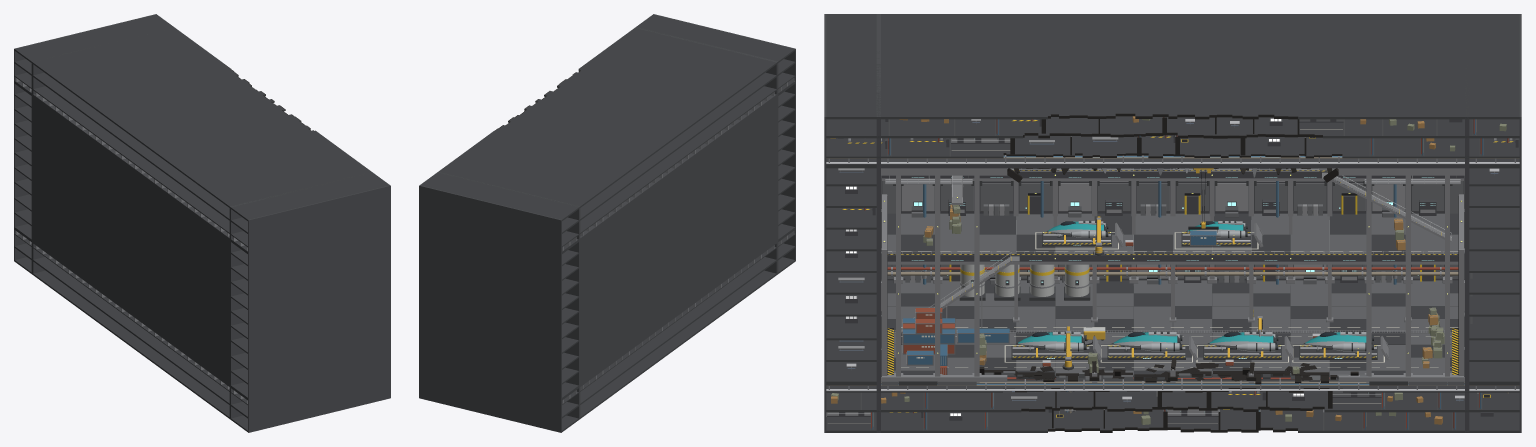
The model's file is mother_bay.glb.
The picture shows the model from 3 angles, left to right: view 1: azimuth 30°, elevation 25°; view 2: azimuth 150°, elevation 25°; view 3: azimuth 270°, elevation 25°; orthographic projection. The views are drawn at different scales.
Visible parts, largest first — view 1: mother_bay; view 2: mother_bay; view 3: mother_bay.
Boxes of the visible parts, x1,y1,x2,y2 form: mother_bay: [14, 14, 390, 432]; mother_bay: [419, 14, 795, 432]; mother_bay: [824, 14, 1521, 432].
Bounding box in the file's own units: 56.02 × 80.02 × 160.
